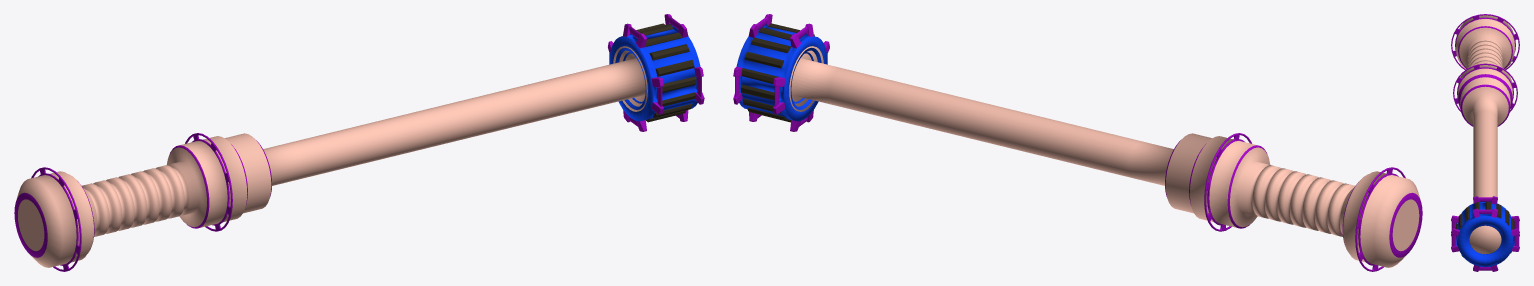
File: mod3.obj
The picture shows the model from 3 angles, left to right: view 1: azimuth 30°, elevation 25°; view 2: azimuth 150°, elevation 25°; view 3: azimuth 270°, elevation 25°; orthographic projection. The views are drawn at different scales.
Visible parts, largest first — view 1: module3.001_3body, module3.001_Material.078, module3.001_Material.075, module3.001_Material.076; view 2: module3.001_3body, module3.001_Material.078, module3.001_Material.075, module3.001_Material.076; view 3: module3.001_3body, module3.001_Material.078, module3.001_Material.075, module3.001_Material.076.
Part boxes in pixels (x1,y1,x2,y2): module3.001_3body: (16, 46, 647, 267); module3.001_Material.078: (14, 14, 704, 271); module3.001_Material.075: (609, 24, 700, 121); module3.001_Material.076: (621, 23, 696, 122); module3.001_3body: (789, 46, 1420, 267); module3.001_Material.078: (733, 14, 1422, 271); module3.001_Material.075: (736, 24, 827, 121); module3.001_Material.076: (740, 23, 814, 122); module3.001_3body: (1456, 15, 1514, 254); module3.001_Material.078: (1451, 14, 1519, 271); module3.001_Material.075: (1456, 201, 1514, 266); module3.001_Material.076: (1455, 201, 1514, 257).
Size of the model in its own units: 35 by 5 by 5.
